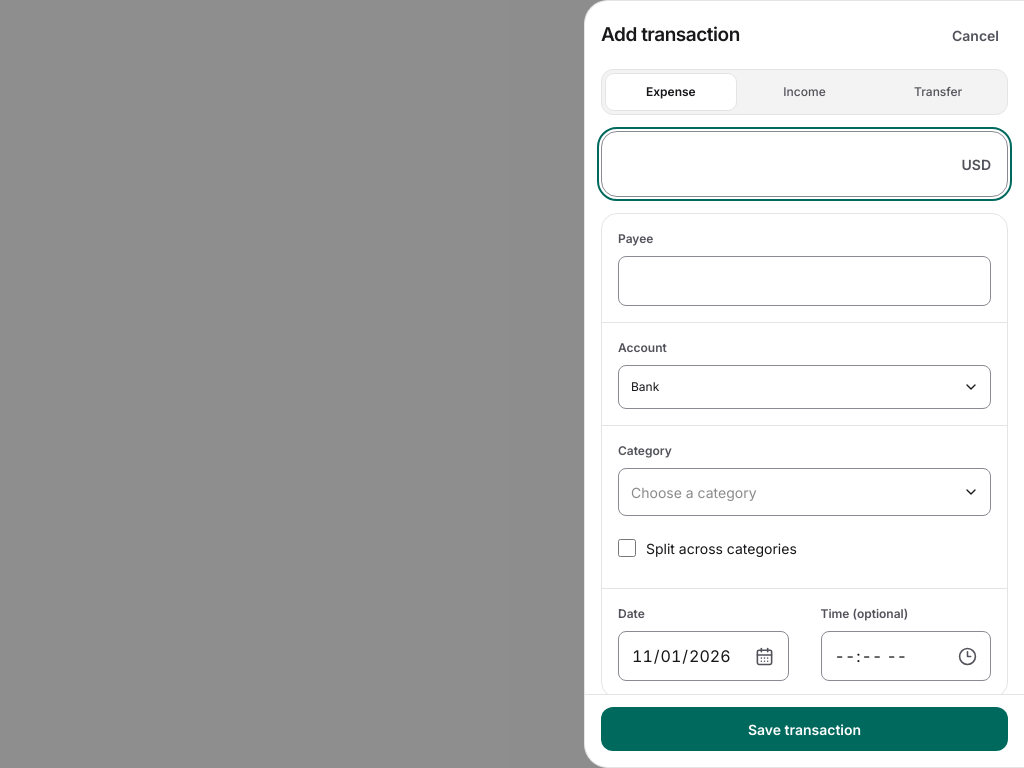
Test: clears wrong-kind selections and masks amounts in privacy mode
The width and height of the screenshot is (1024, 768).
What coordinates should you click on to do the following:
click the dropdown labelled "Category"
I would click on:
 (804, 492)
Its box is [618,468,991,516].
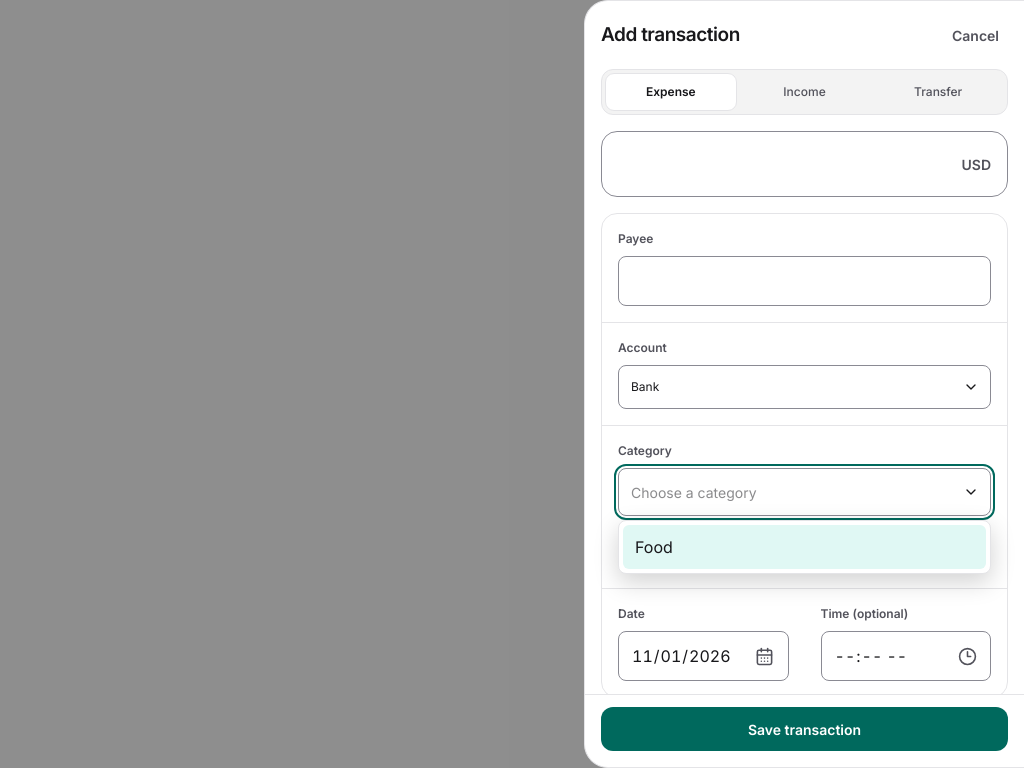
What coordinates should you click on to do the following:
click the option "Food"
I would click on:
 (654, 547)
Its box is [623,525,986,569].
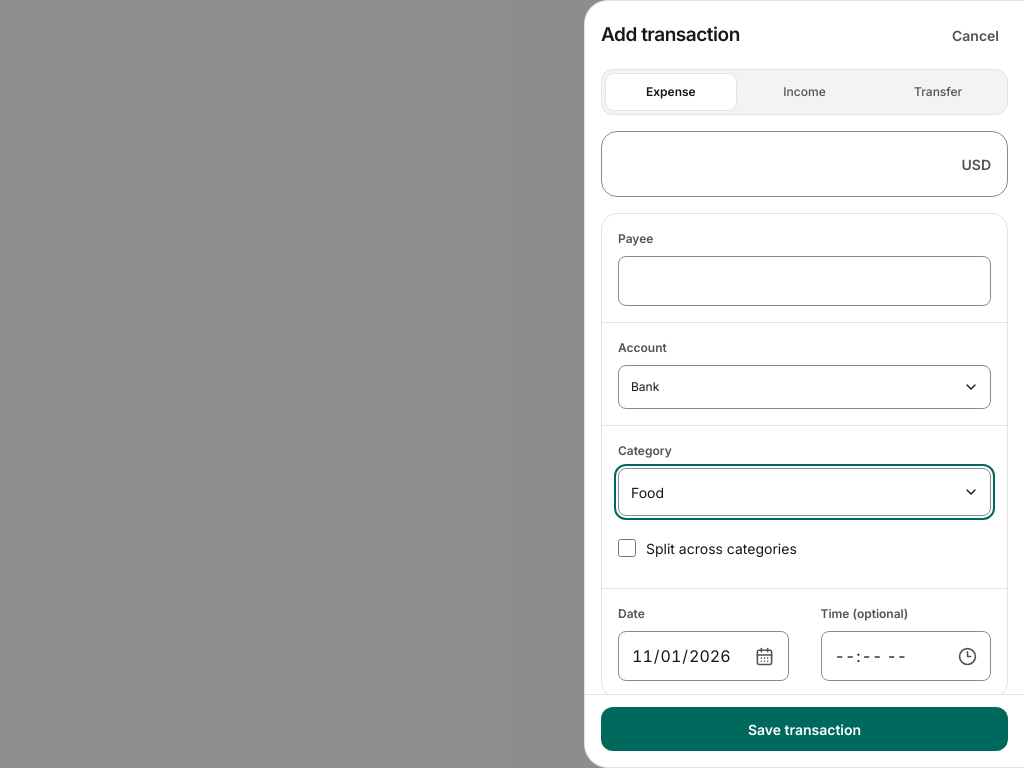
What coordinates should you click on to do the following:
click the radio button labelled "Income"
I would click on:
 (805, 92)
Its box is [739,73,870,111].
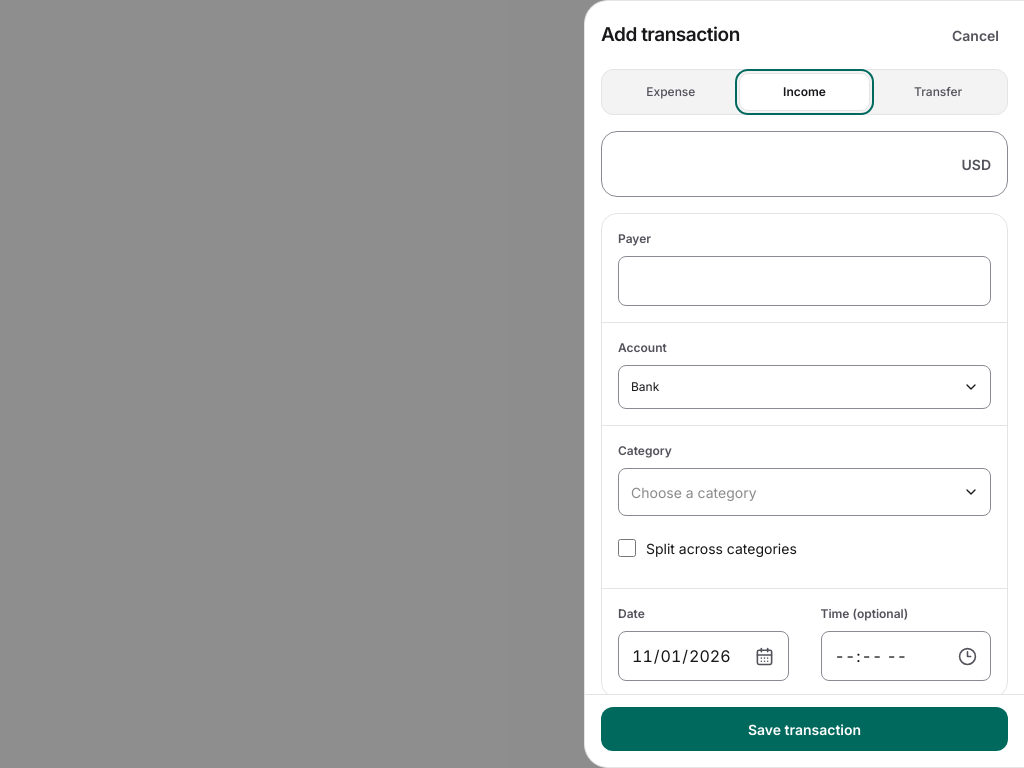
Expected: the dropdown labelled "Category" is empty
What coordinates should you click on to do the following:
click the dropdown labelled "Category"
I would click on:
 (804, 492)
Its box is [618,468,991,516].
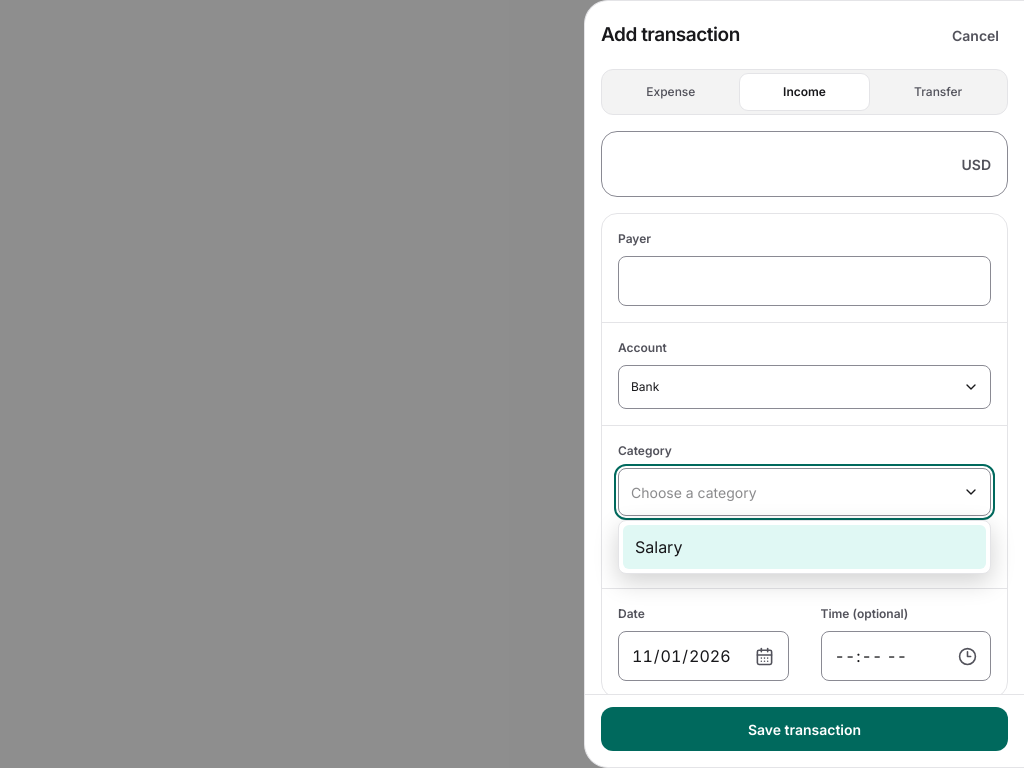
Expected: the option "Food" is not shown
Expected: the option "Salary" is shown, [623,525,986,569]
